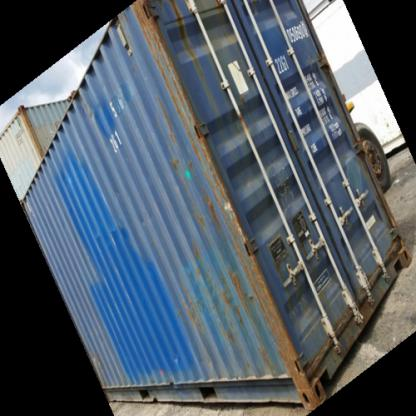Damage: (229, 249, 318, 410), (173, 130, 255, 250), (130, 2, 204, 125), (173, 243, 245, 342)
